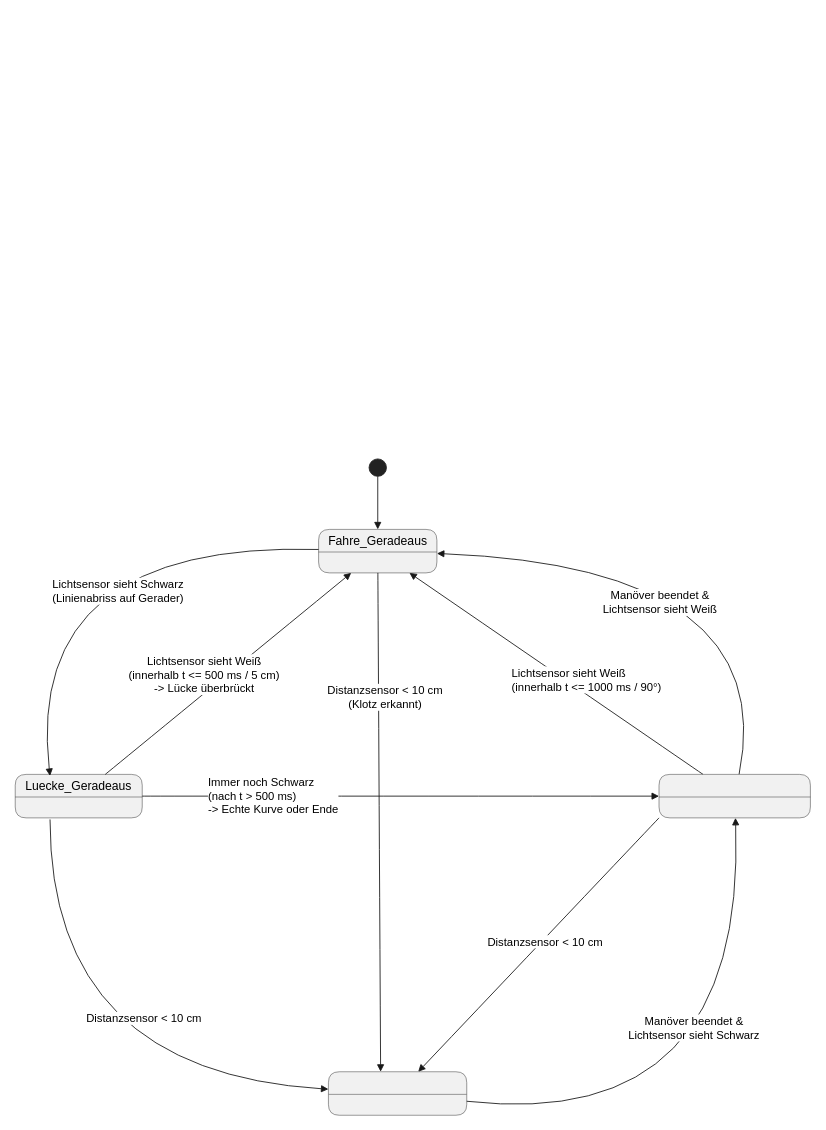
Some shapes in this 826 by 1130 pixel diagram are drawn without their labels. Each missing label, with the centre of its shape:
Drehe_Suchen_90Grad: [734,796]
Hindernis_Umfahren: [397,1093]
